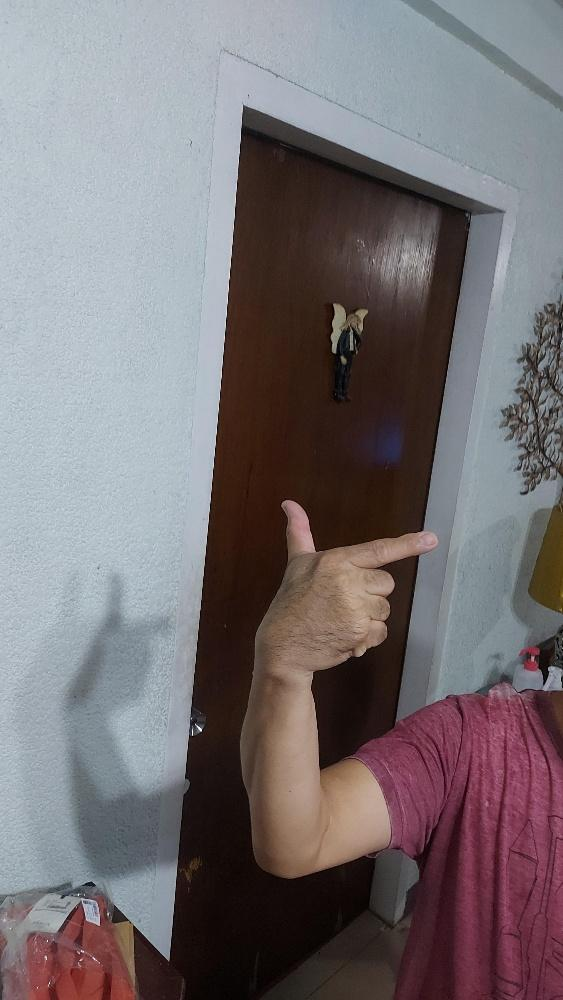g: (253, 498, 437, 672)
